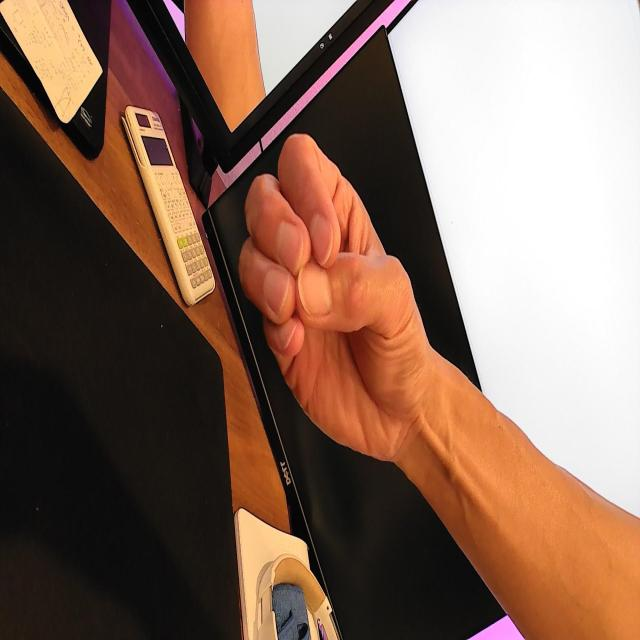O: (236, 128, 428, 460)
